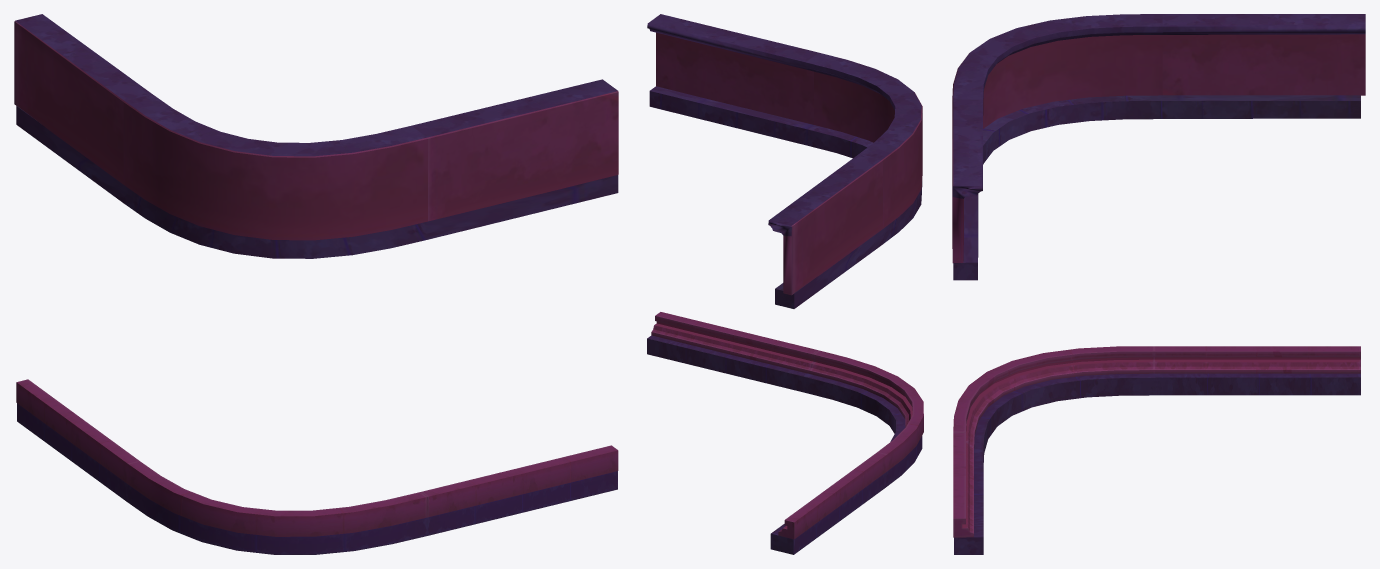
Rendered from hub_wall_trim_rounded_corner.fbx.
The picture shows the model from 3 angles, left to right: view 1: azimuth 30°, elevation 25°; view 2: azimuth 150°, elevation 25°; view 3: azimuth 270°, elevation 25°; orthographic projection. The views are drawn at different scales.
Visible parts, largest first — view 1: wall_trim_top_corner_, wall_trim_border_corner_, wall_trim_arc_corner_, wall_trim_brick_border_corner_; view 2: wall_trim_top_corner_, wall_trim_border_corner_, wall_trim_brick_border_corner_, wall_trim_arc_corner_; view 3: wall_trim_top_corner_, wall_trim_border_corner_, wall_trim_arc_corner_, wall_trim_brick_border_corner_.
Boxes of the visible parts, x1=… form: wall_trim_top_corner_: x1=14, y1=14, x2=618, y2=240; wall_trim_border_corner_: x1=16, y1=379, x2=618, y2=536; wall_trim_arc_corner_: x1=16, y1=106, x2=618, y2=258; wall_trim_brick_border_corner_: x1=17, y1=403, x2=617, y2=554; wall_trim_top_corner_: x1=647, y1=14, x2=922, y2=295; wall_trim_border_corner_: x1=651, y1=312, x2=923, y2=539; wall_trim_brick_border_corner_: x1=647, y1=335, x2=922, y2=554; wall_trim_arc_corner_: x1=649, y1=86, x2=922, y2=308; wall_trim_top_corner_: x1=952, y1=14, x2=1365, y2=262; wall_trim_border_corner_: x1=953, y1=346, x2=1360, y2=537; wall_trim_arc_corner_: x1=953, y1=95, x2=1360, y2=280; wall_trim_brick_border_corner_: x1=954, y1=373, x2=1360, y2=554.
Size of the model in its own units: 22.53 by 22.5 by 22.84.
1 material, 1 textured.
